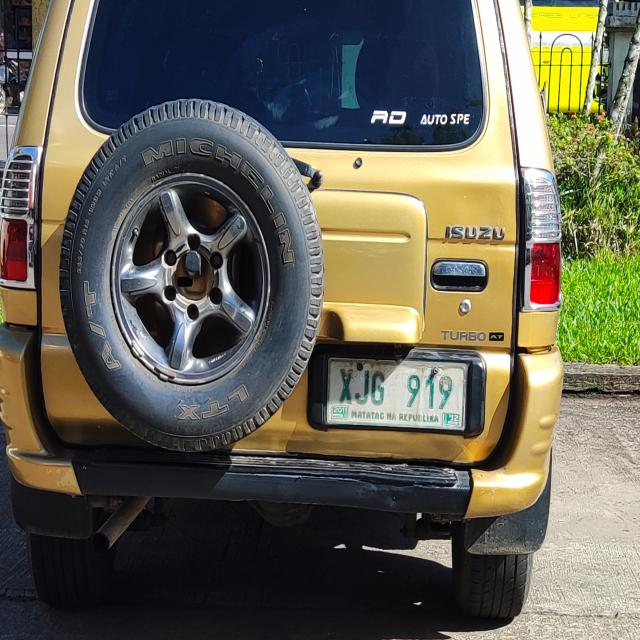plate: (324, 355, 470, 433)
